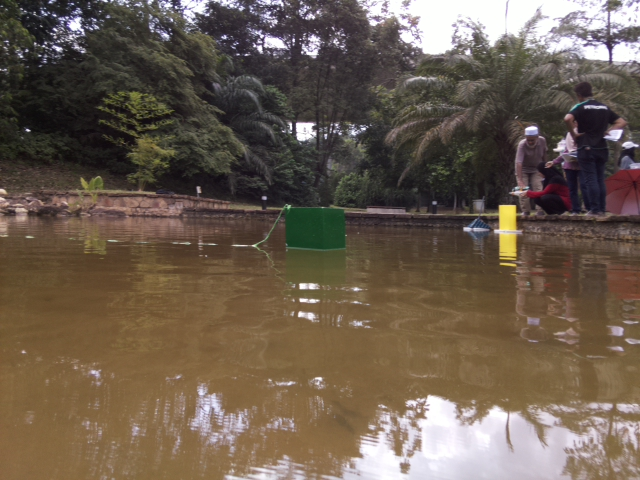obstacle: (284, 208, 346, 252)
